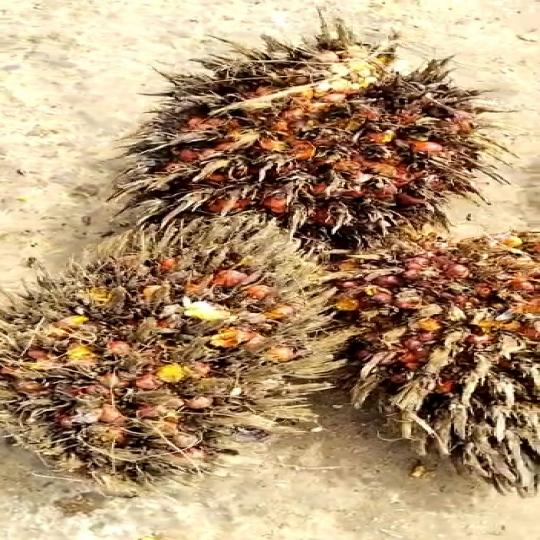terlalu masak: (0, 218, 353, 489), (134, 29, 482, 236), (330, 220, 540, 490)
